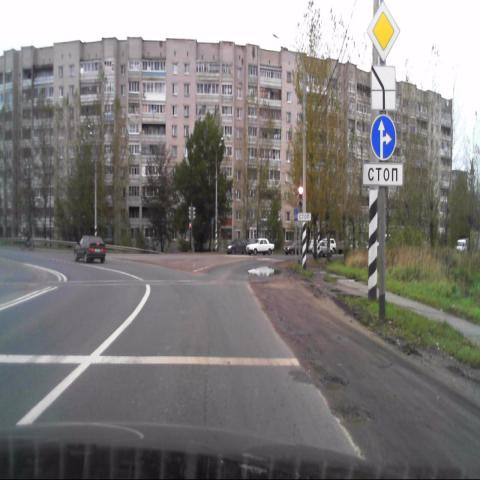2_1: (366, 5, 400, 61)
4_1_4: (370, 113, 397, 162)
6_16: (362, 162, 403, 186)
